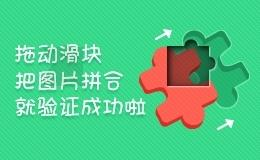target: (146, 26, 188, 66)
